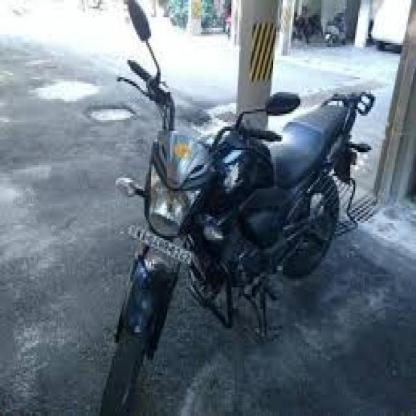bike: (104, 60, 376, 408)
